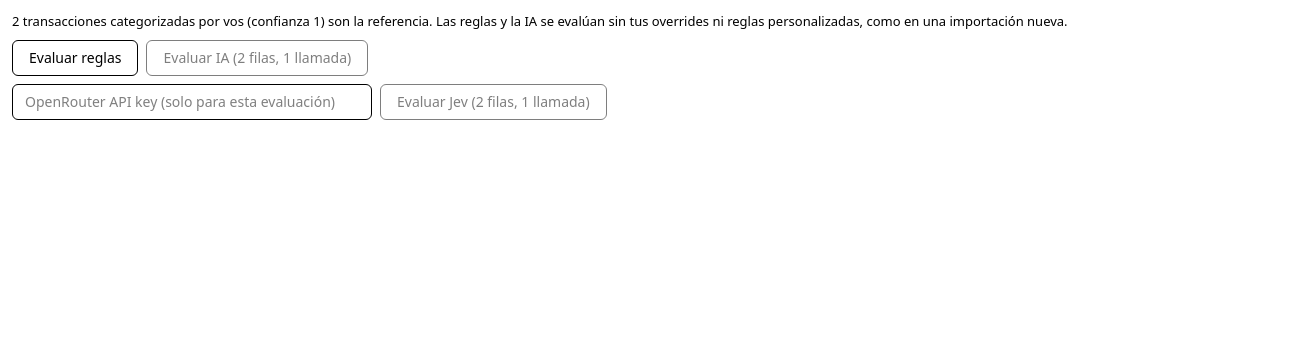
Scenario: CategorizerEval › scores the rule categorizer without the user rules and lists mismatches
The width and height of the screenshot is (1292, 359).
Click the button "Evaluar reglas".
click(75, 58)  # box top-left (12, 40), bottom-right (138, 76)
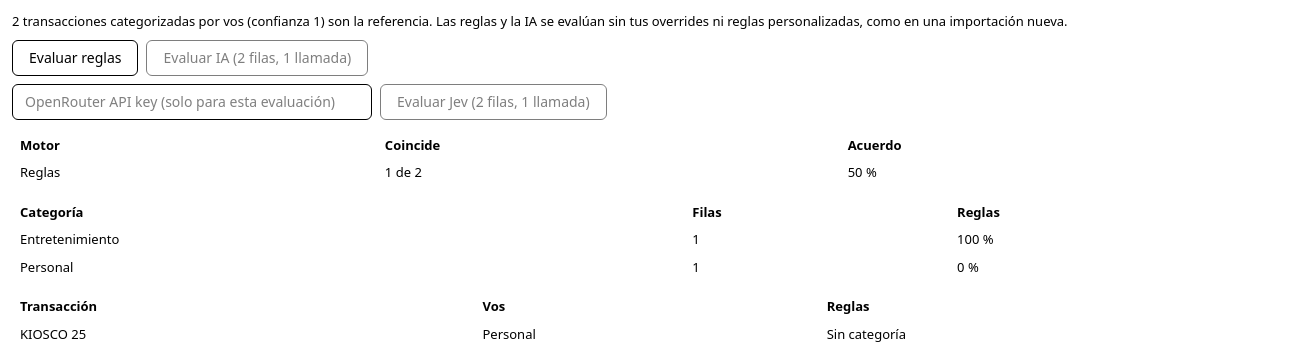
expect the row with test id "eval-rules" shows "1 de 2": met, box top-left (12, 159), bottom-right (1291, 186)
expect the row with test id "eval-rules" shows "50 %": met, box top-left (848, 163), bottom-right (877, 181)
expect the table with test id "eval-mismatches" shows "KIOSCO 25": met, box top-left (20, 324), bottom-right (86, 342)
